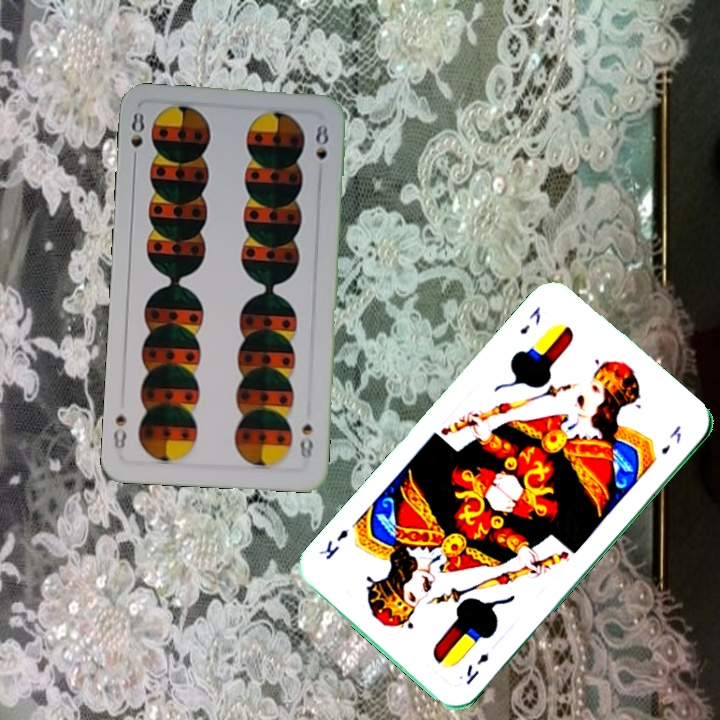EK: (461, 649, 492, 688), (515, 302, 544, 337)
S8: (127, 107, 147, 167), (295, 419, 316, 461)
